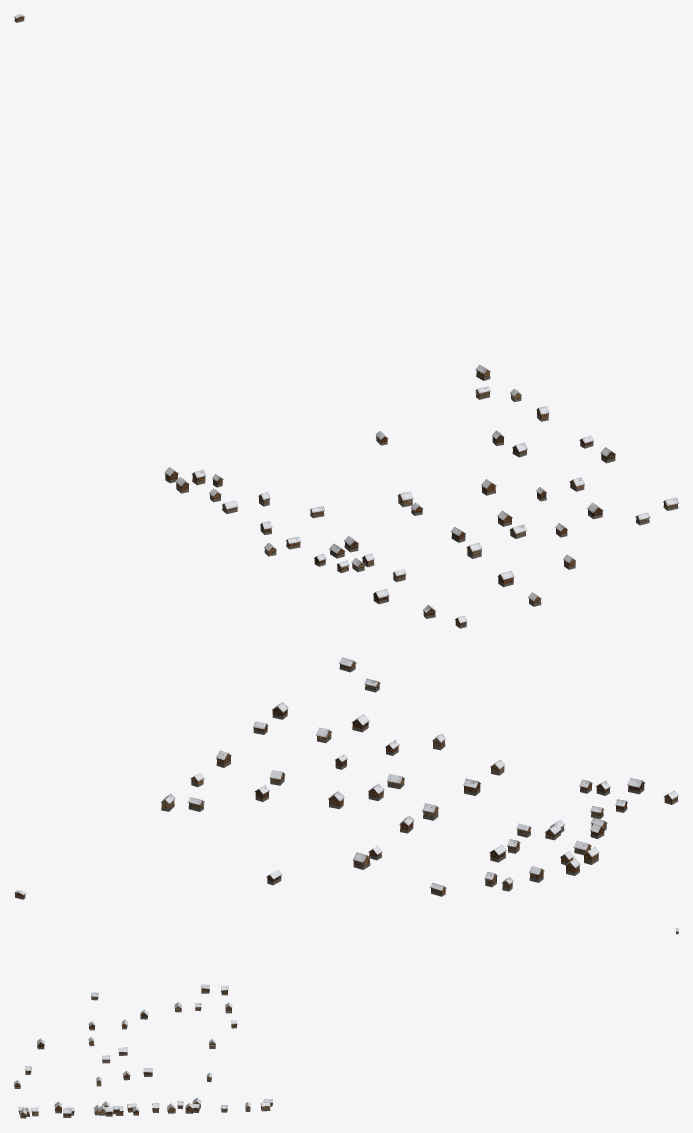
The model's file is village_bigair.glb.
3 views of the same model, one above another, from view 1: azimuth 30°, elevation 25°; view 2: azimuth 150°, elevation 25°; view 3: azimuth 270°, elevation 25° (orthographic). The views are drawn at different scales.
Bounding box in the file's own units: 580 × 378 × 1326.
